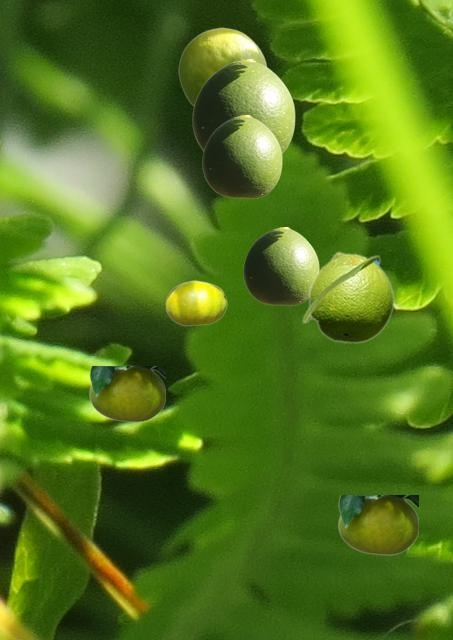dalandan: (192, 59, 294, 154), (301, 251, 394, 343), (178, 27, 266, 106), (202, 115, 281, 197), (243, 227, 318, 304), (338, 495, 417, 554), (89, 366, 164, 421), (165, 280, 226, 325)
